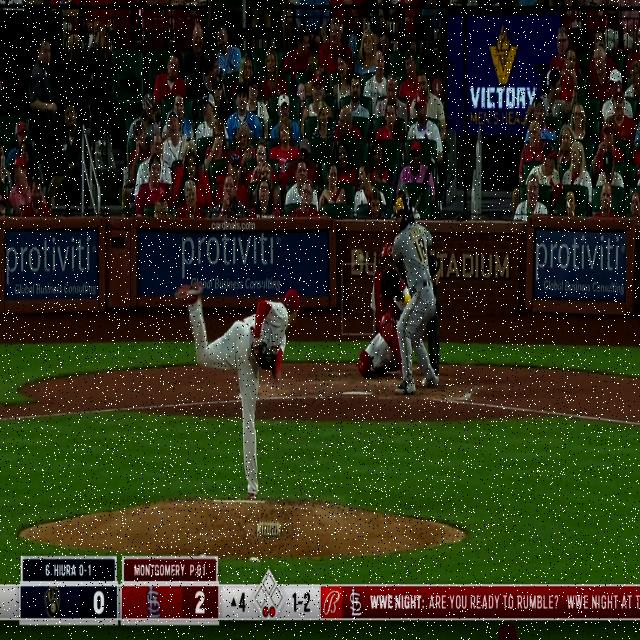baseball: (356, 252, 366, 264)
